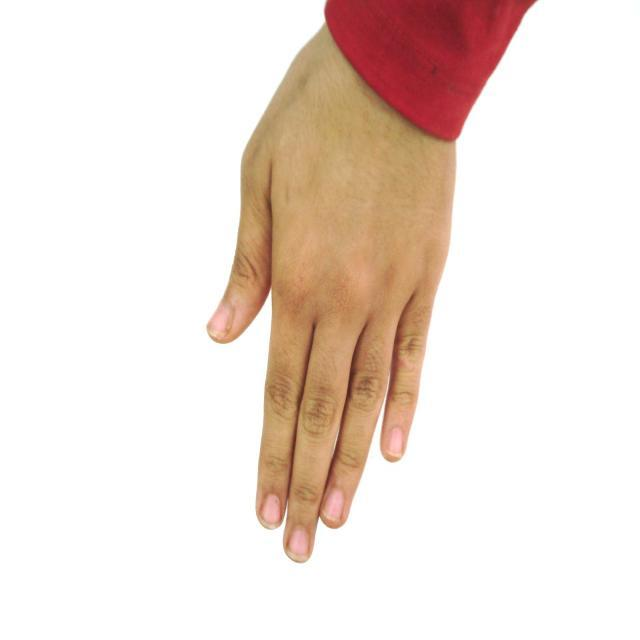Fingernail: (324, 489, 343, 523), (209, 306, 231, 335), (262, 495, 281, 527), (289, 528, 308, 558), (385, 427, 403, 457)
